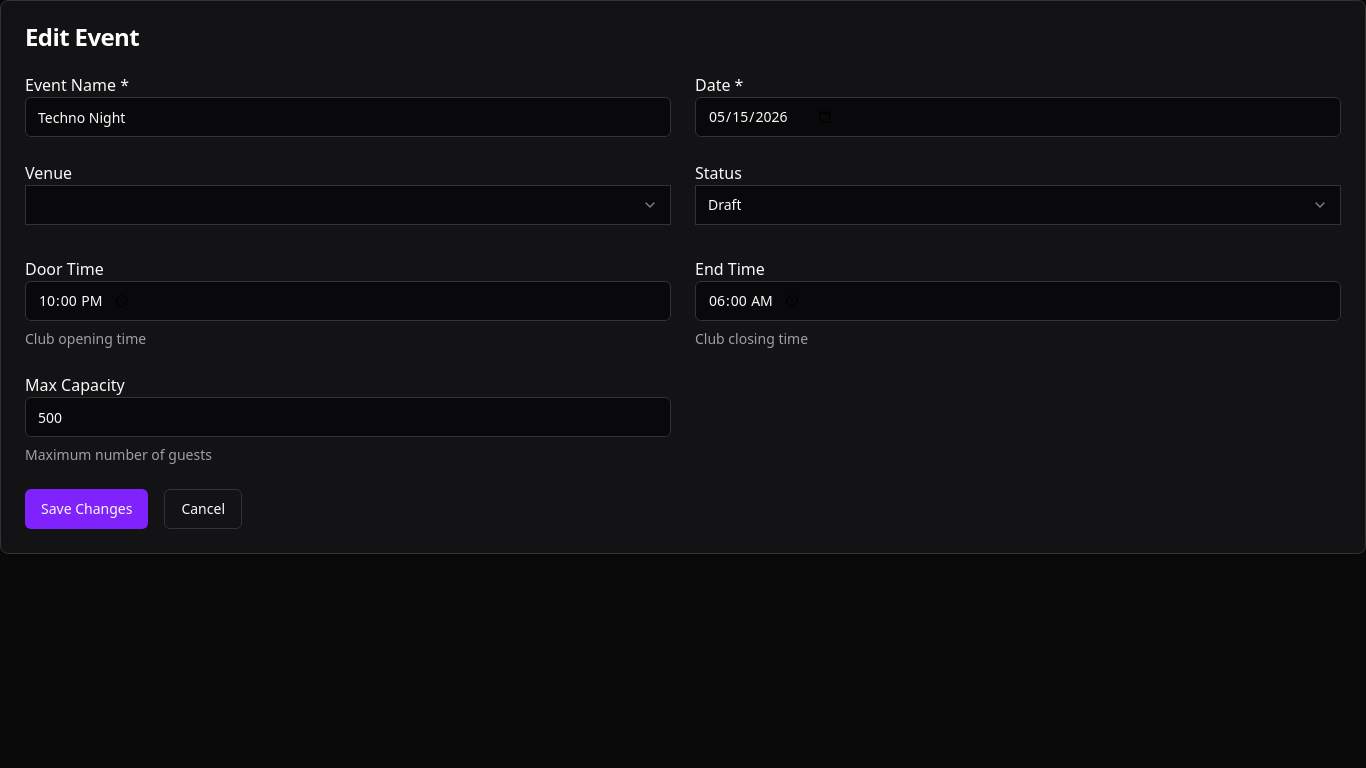
Test case: EventForm Edit Mode › shows validation error when date is empty
Clear the date field showing "2026-05-15" at (1018, 117), box [695,97,1341,137]
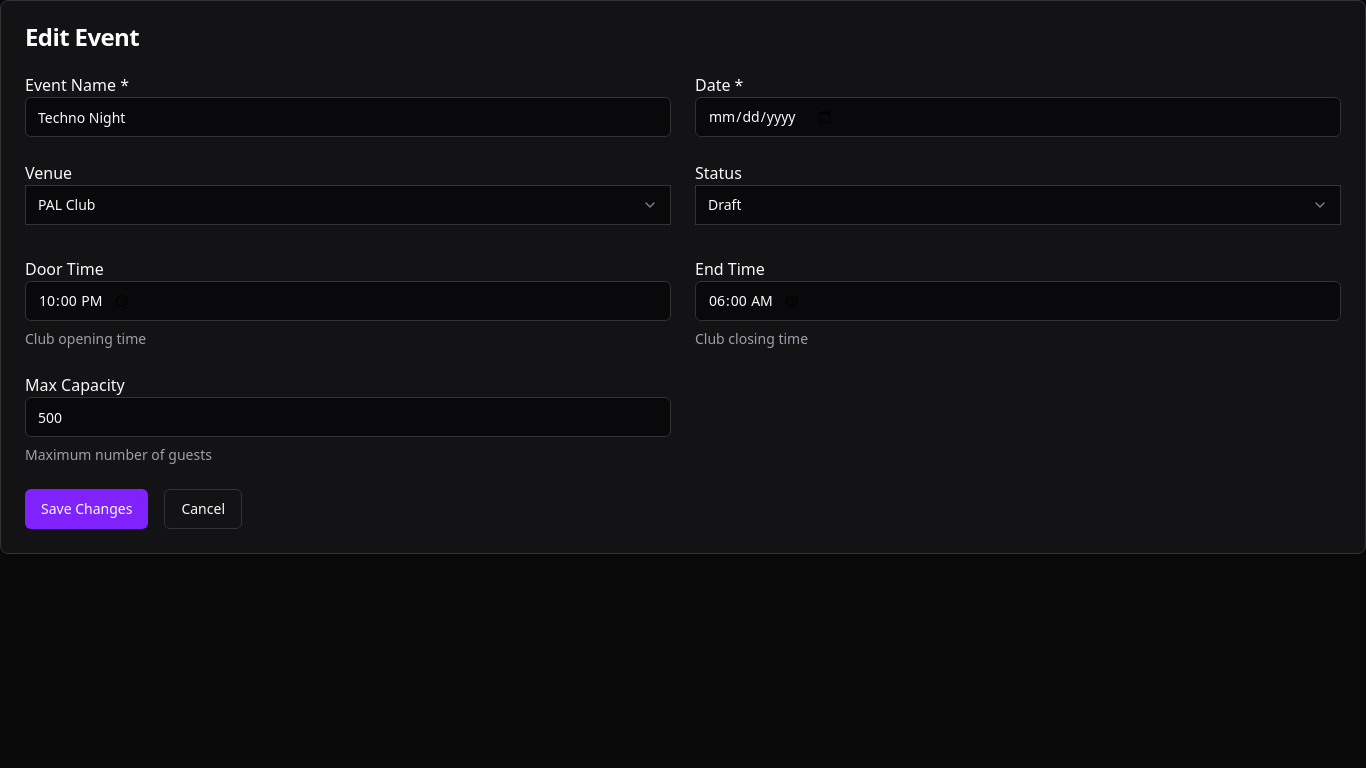
Click the button "Save Changes" at (87, 509), box [25,489,148,529]
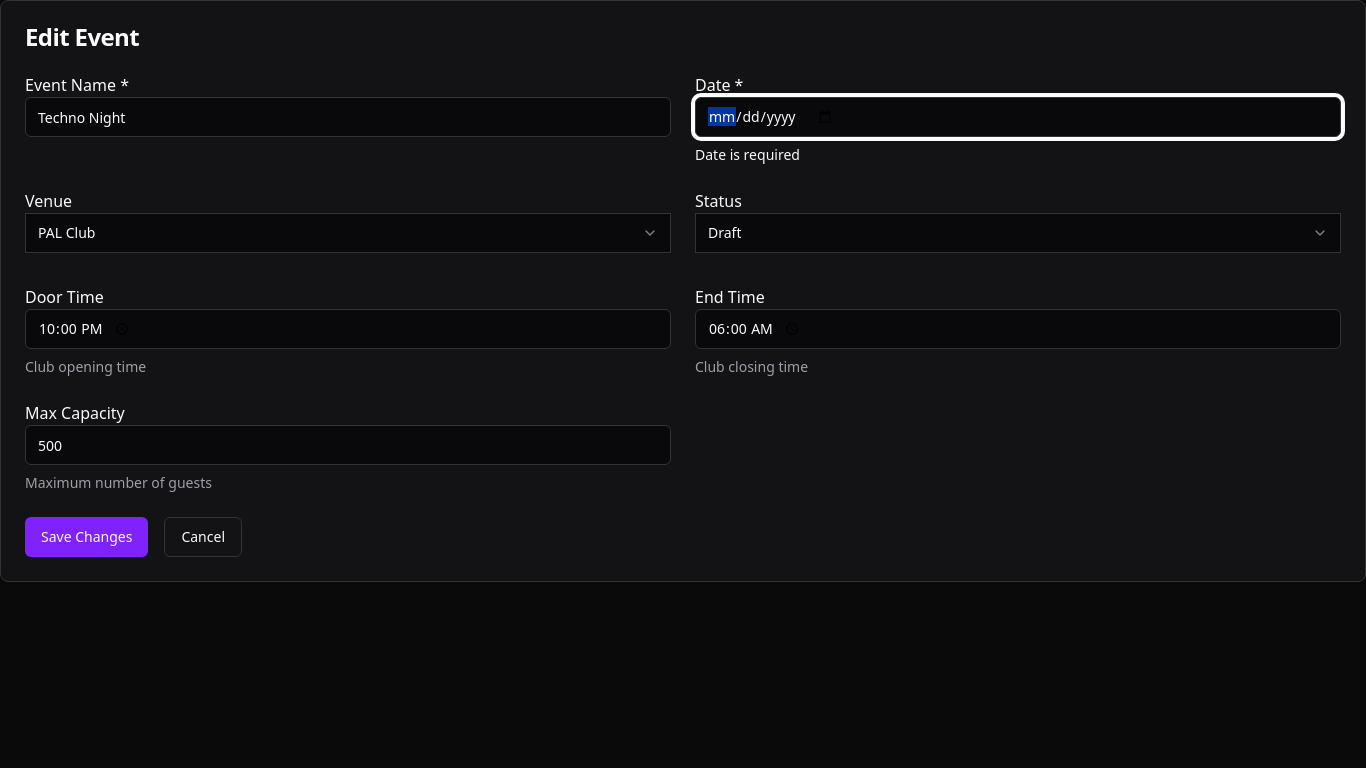
Expected: the text "Date is required" is shown, [695,145,800,164]
